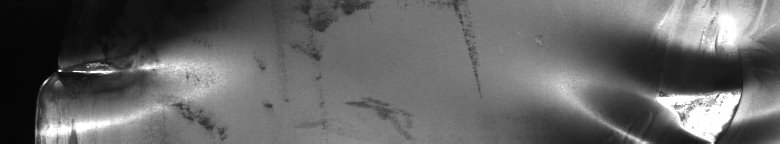ke: (584, 39, 776, 136)
